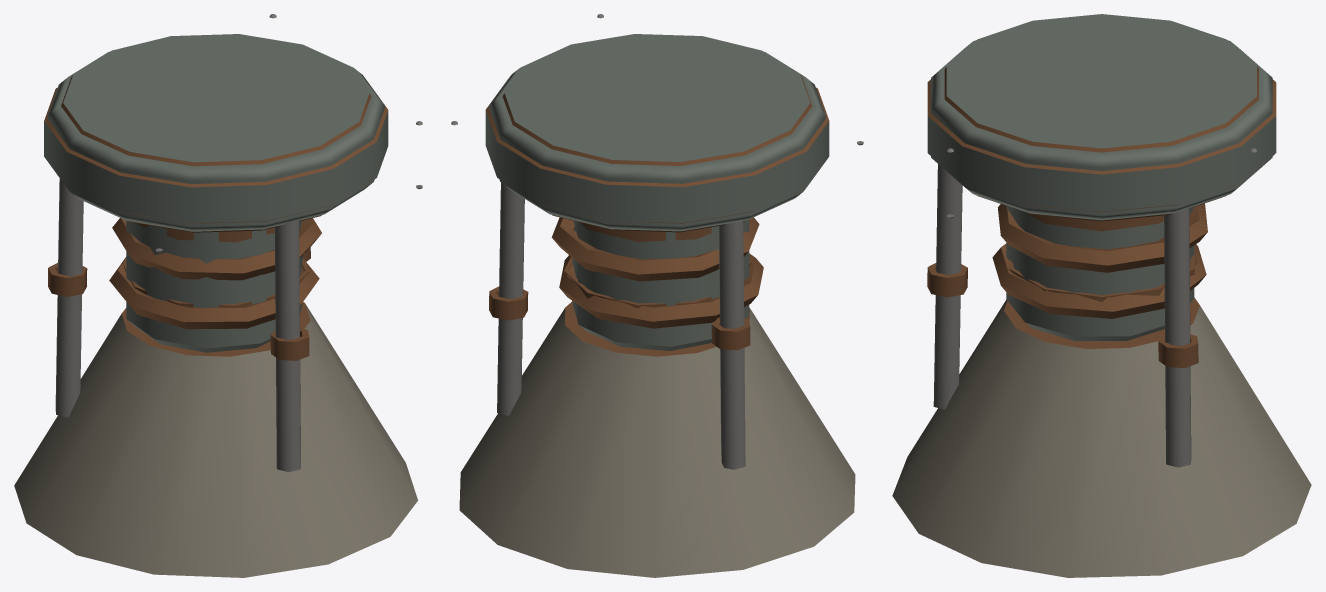
File: R4X_JumpDrive.fbx
3 renders of one model, left to right at view 1: azimuth 30°, elevation 25°; view 2: azimuth 150°, elevation 25°; view 3: azimuth 270°, elevation 25°, orthographic. The views are drawn at different scales.
Parts seen in each view (by area): view 1: R4X_JumpDrive_Body; view 2: R4X_JumpDrive_Body; view 3: R4X_JumpDrive_Body.
Part boxes in pixels (box(x1,y1,x2,y2)): R4X_JumpDrive_Body: box(14, 14, 422, 577); R4X_JumpDrive_Body: box(451, 14, 863, 577); R4X_JumpDrive_Body: box(892, 14, 1311, 577).
Bounding box in the file's own units: 0.4638 × 0.51 × 0.4691.
